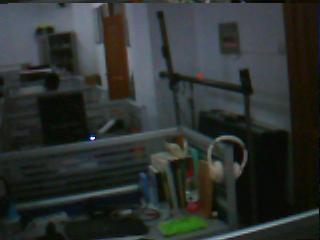oball: (198, 71, 203, 78)
